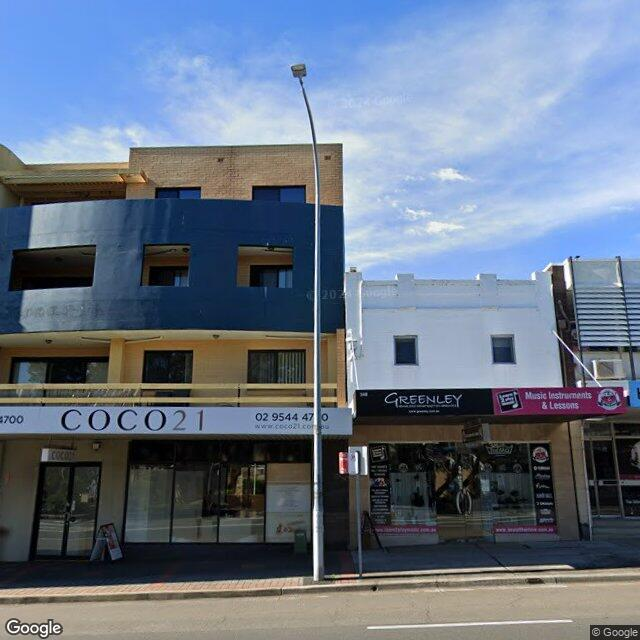steel-pole: (313, 195, 325, 582)
streetlight: (290, 62, 320, 195)
